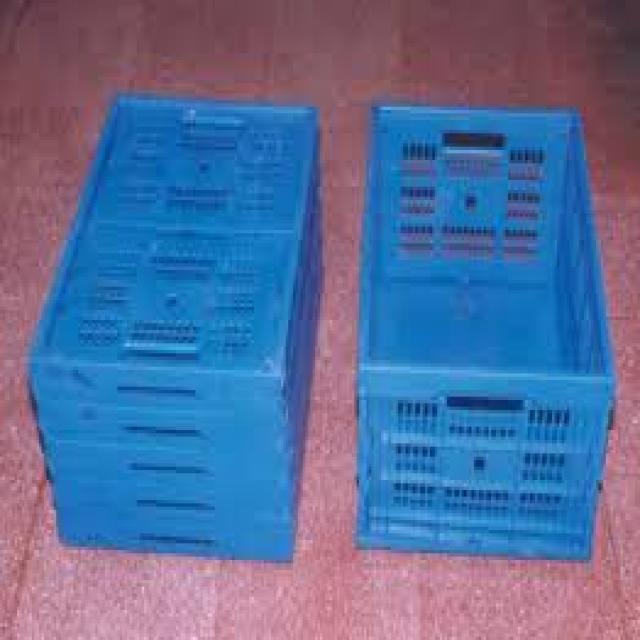basket: (20, 93, 330, 563), (357, 106, 622, 559)
